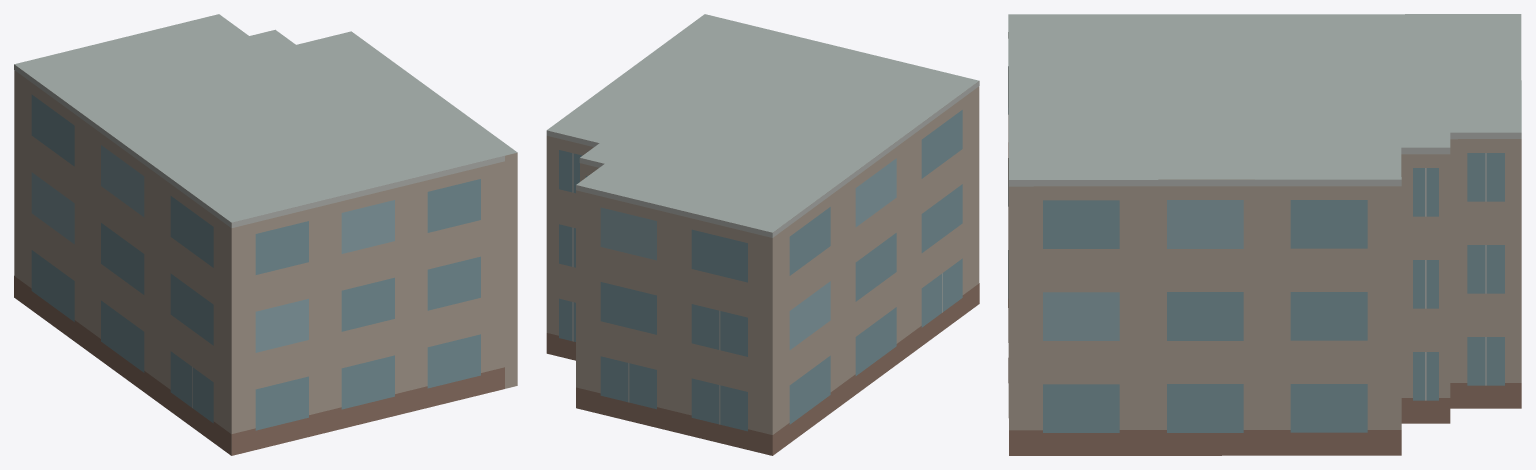
File: survey-upis-32706662.glb
The picture shows the model from 3 angles, left to right: view 1: azimuth 30°, elevation 25°; view 2: azimuth 150°, elevation 25°; view 3: azimuth 270°, elevation 25°; orthographic projection. The views are drawn at different scales.
Visible parts, largest first — view 1: survey-upis-32706662.tmp; view 2: survey-upis-32706662.tmp; view 3: survey-upis-32706662.tmp.
Part boxes in pixels (x1,y1,x2,y2): survey-upis-32706662.tmp: (14, 14, 517, 455); survey-upis-32706662.tmp: (546, 14, 979, 455); survey-upis-32706662.tmp: (1008, 14, 1521, 455).
Size of the model in its own units: 13.16 by 10.2 by 17.21.
